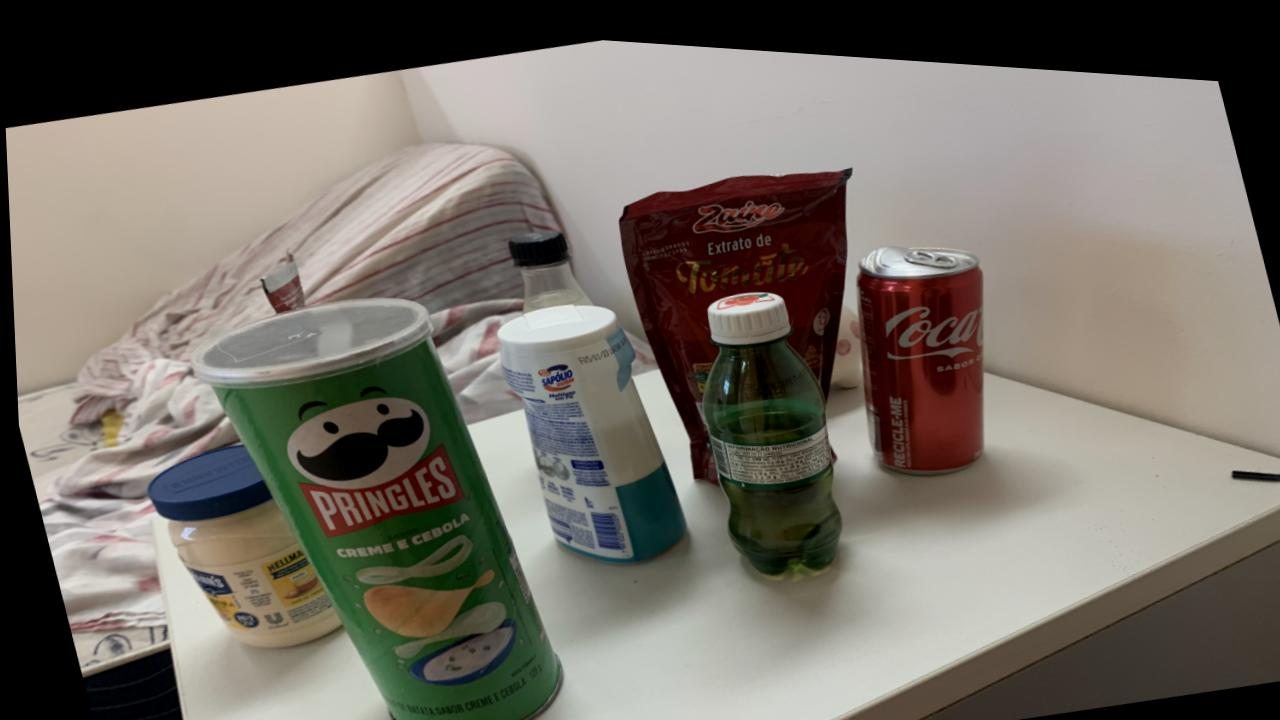Cleaner-Cleanup_Items: (495, 296, 681, 555)
Coke-Drinks: (854, 233, 981, 461)
Guarana-Drinks: (698, 281, 837, 565)
Mayonnaise-Pantry_Items: (143, 441, 335, 645)
Pig_Safe-Miscellaneous: (827, 293, 860, 377)
Pringles-Snacks: (188, 292, 556, 720)
Soda-Drinks: (506, 223, 588, 304)
Tomato_Sauce-Pantry_Items: (617, 158, 850, 473), (258, 248, 302, 310)
